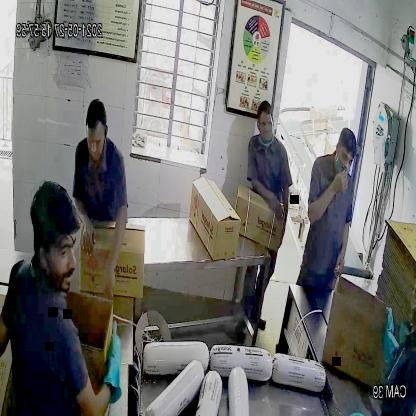no_goggles: (333, 146, 358, 168), (84, 129, 109, 149)
